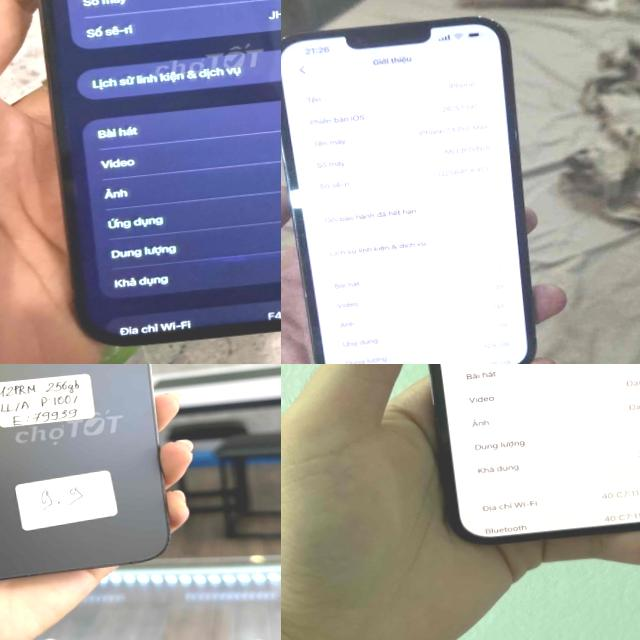gen_12_13: (281, 0, 551, 364), (387, 364, 640, 558), (0, 364, 178, 584)
gen_14: (0, 0, 281, 362)
